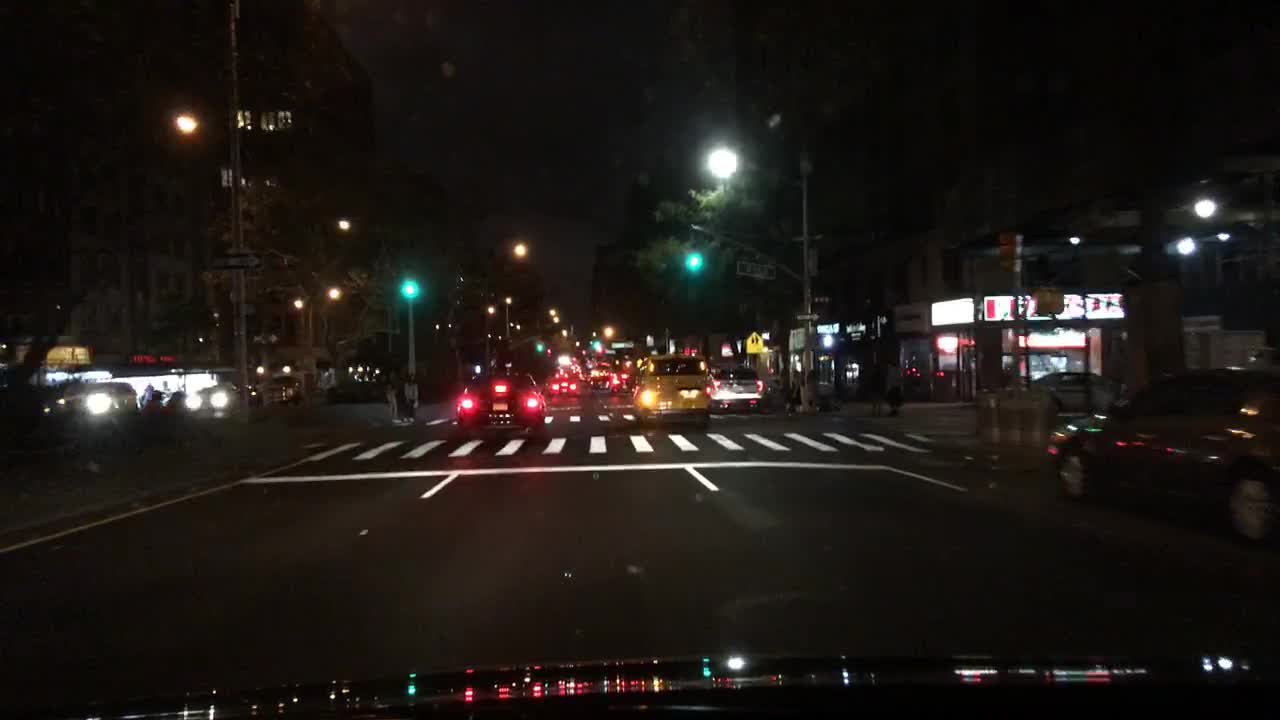car: (1043, 358, 1278, 555), (451, 364, 550, 437), (628, 349, 713, 427), (1024, 368, 1135, 412), (47, 377, 140, 424), (704, 361, 768, 409), (182, 377, 262, 414), (253, 374, 309, 412), (545, 371, 581, 396), (604, 368, 636, 393)
person: (884, 350, 908, 416), (398, 367, 423, 430), (868, 346, 887, 419), (731, 255, 784, 281), (382, 368, 401, 430)
traffic light: (993, 226, 1020, 274), (1030, 285, 1065, 315), (398, 273, 425, 303), (684, 245, 706, 274), (535, 340, 546, 353)
traffic sign: (745, 330, 765, 355), (793, 309, 821, 323)
